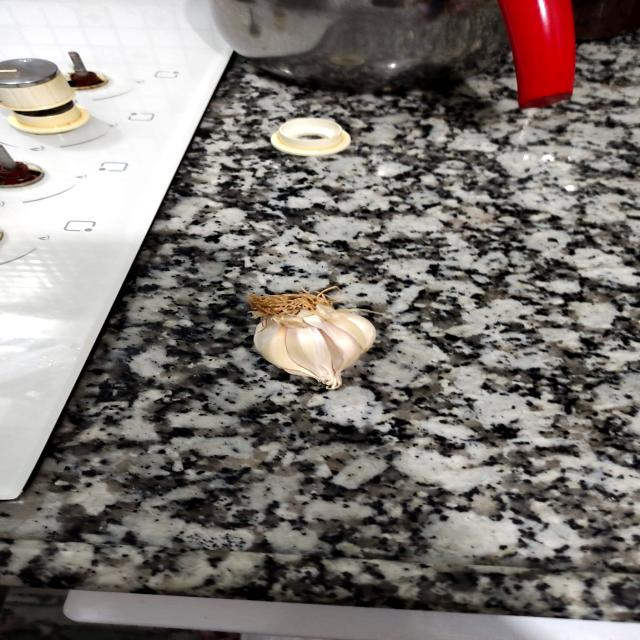garlic: (226, 280, 403, 396)
